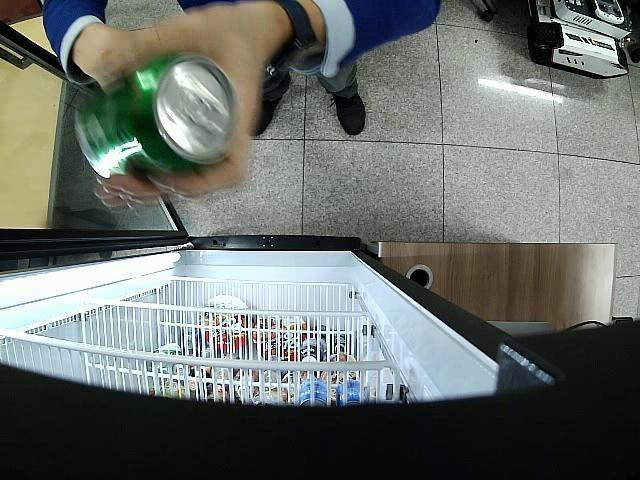12_chilsungCider: (76, 51, 240, 179)
